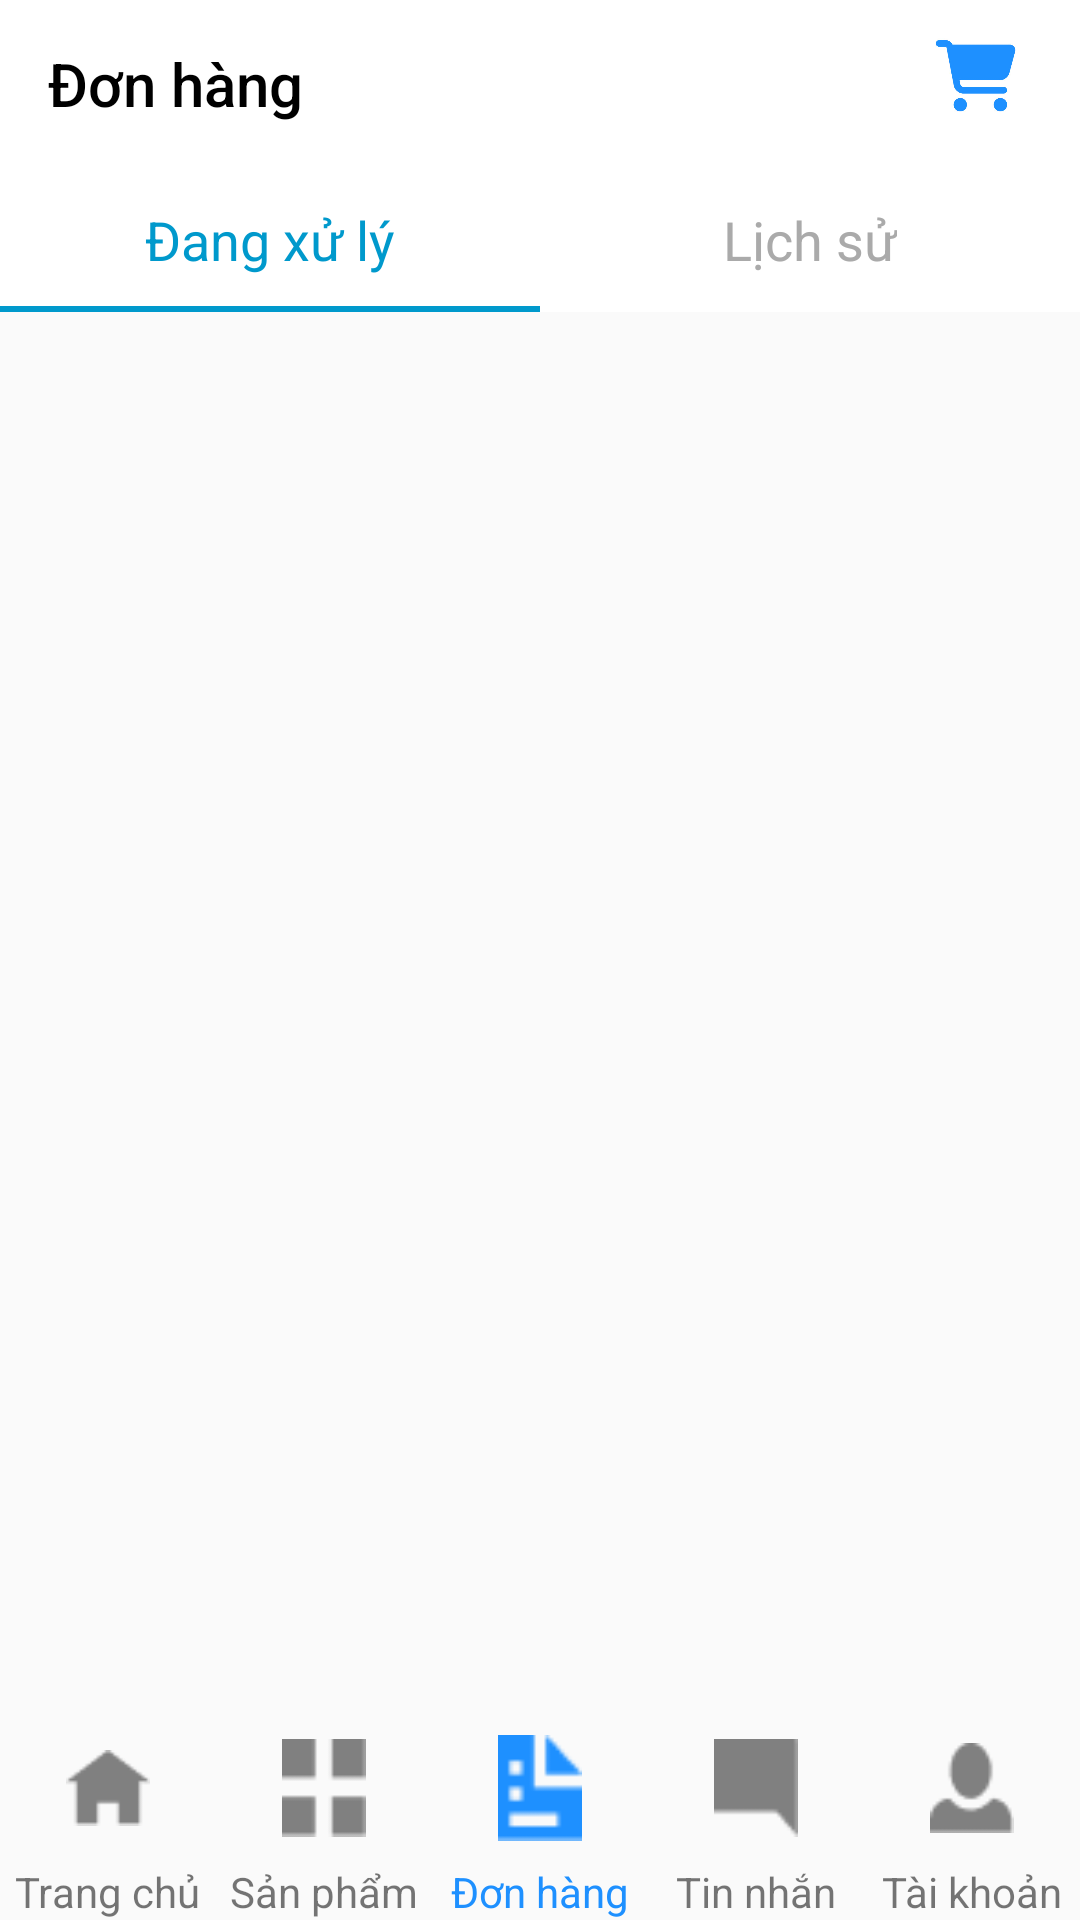

Named icons in this screenshot (1080px x 1920px) and their bounding boxes, box(x1, y1, x2, y2):
home: box(68, 1750, 148, 1826)
